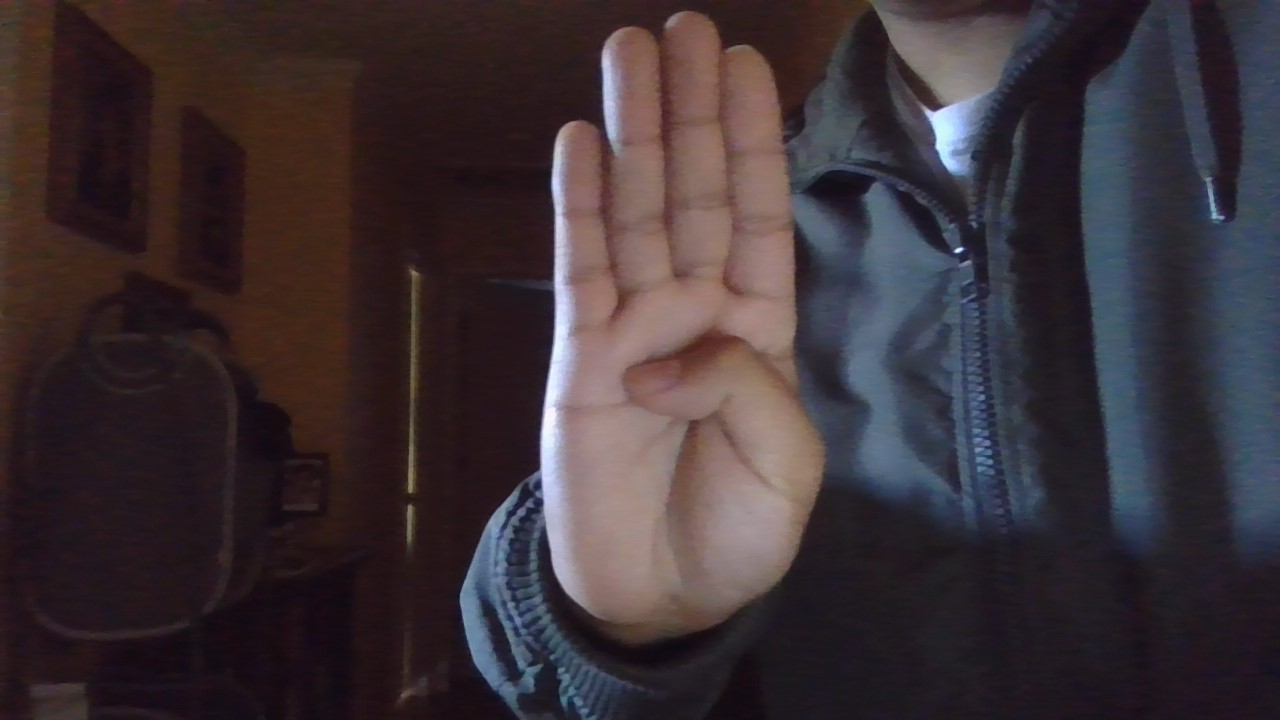b: (502, 5, 836, 651)
